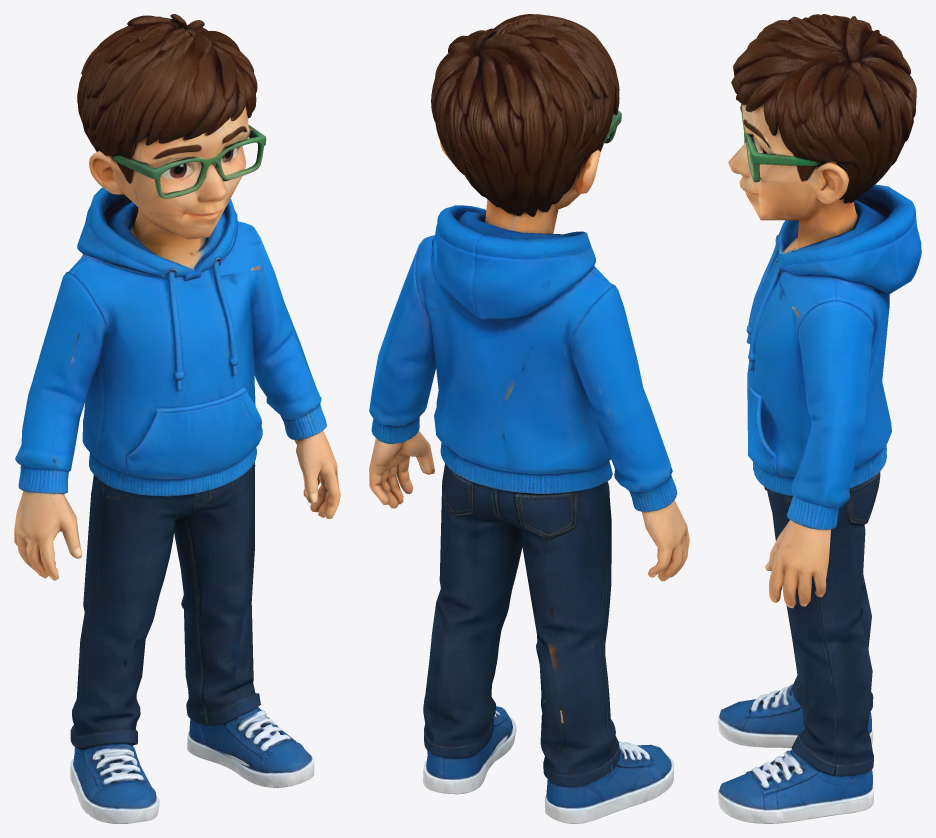
File: migue.glb
The picture shows the model from 3 angles, left to right: view 1: azimuth 30°, elevation 25°; view 2: azimuth 150°, elevation 25°; view 3: azimuth 270°, elevation 25°; orthographic projection. The views are drawn at different scales.
Parts seen in each view (by area): view 1: model; view 2: model; view 3: model.
Boxes of the visible parts, left/top/right/bottom form: model: left=14, top=14, right=340, bottom=823; model: left=369, top=14, right=689, bottom=823; model: left=718, top=14, right=921, bottom=823.
Bounding box in the file's own units: 0.8199 × 1.9 × 0.4679.
Materials: 1 (1 with a texture image).
